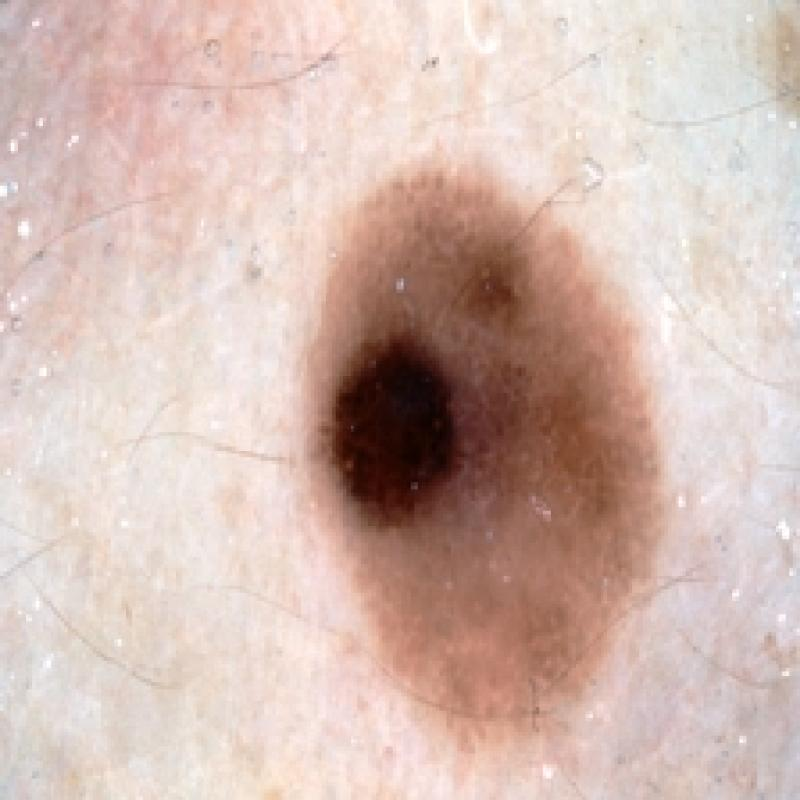malignant: (281, 161, 676, 749)
